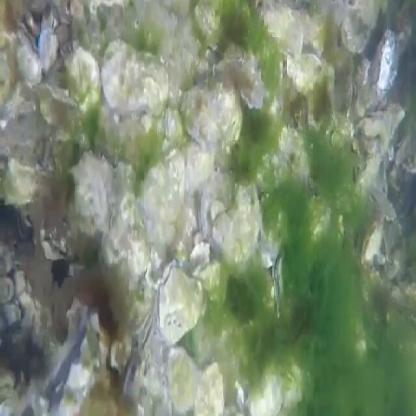3: (37, 305, 101, 416), (125, 355, 142, 401)
Oyster- Indeterminate: (155, 264, 203, 348), (201, 61, 265, 111), (40, 214, 73, 261), (17, 23, 41, 86), (38, 84, 75, 122), (361, 222, 384, 264), (273, 256, 285, 320), (132, 312, 153, 342), (40, 13, 58, 37)
Oyster-Closed: (139, 147, 186, 256), (104, 39, 169, 114), (182, 81, 243, 148), (287, 52, 334, 137), (211, 185, 260, 261), (67, 155, 116, 229), (102, 168, 138, 268), (359, 31, 399, 114), (197, 171, 234, 248), (257, 0, 304, 58), (341, 0, 384, 52), (167, 349, 199, 411), (68, 48, 100, 106), (258, 193, 282, 266), (245, 372, 283, 416), (194, 362, 224, 416), (4, 164, 36, 202), (358, 158, 382, 198), (371, 187, 396, 221), (40, 30, 57, 72), (280, 131, 301, 159), (5, 304, 20, 329), (0, 277, 14, 301)
